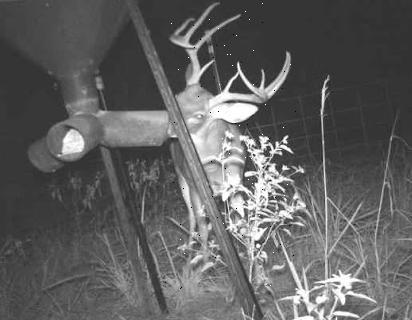Deer: (165, 0, 296, 291)
